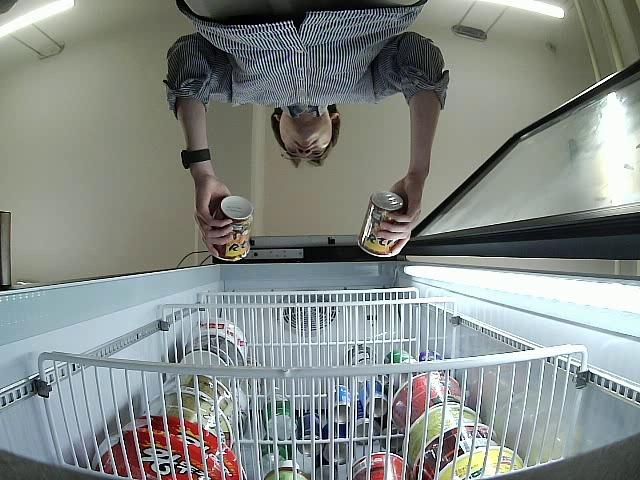00_hand: (375, 180, 423, 253), (193, 178, 236, 258)
06_nuguri_S: (359, 196, 408, 259), (213, 196, 253, 262)
